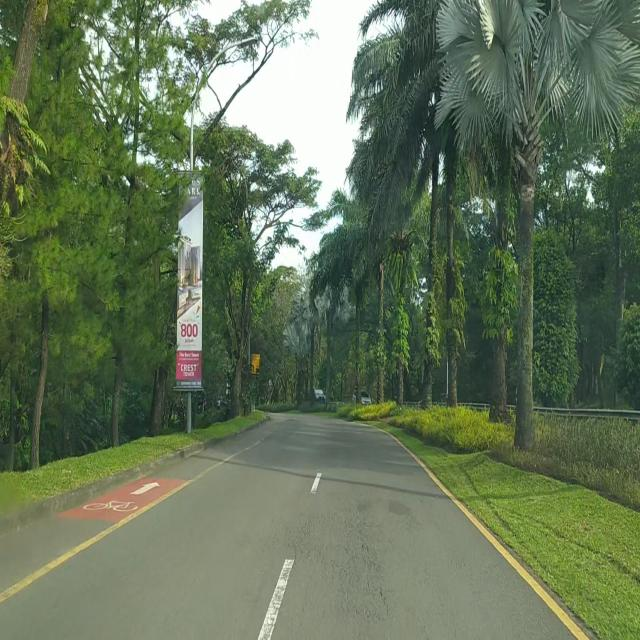Drain Hole: (302, 494, 395, 615)
